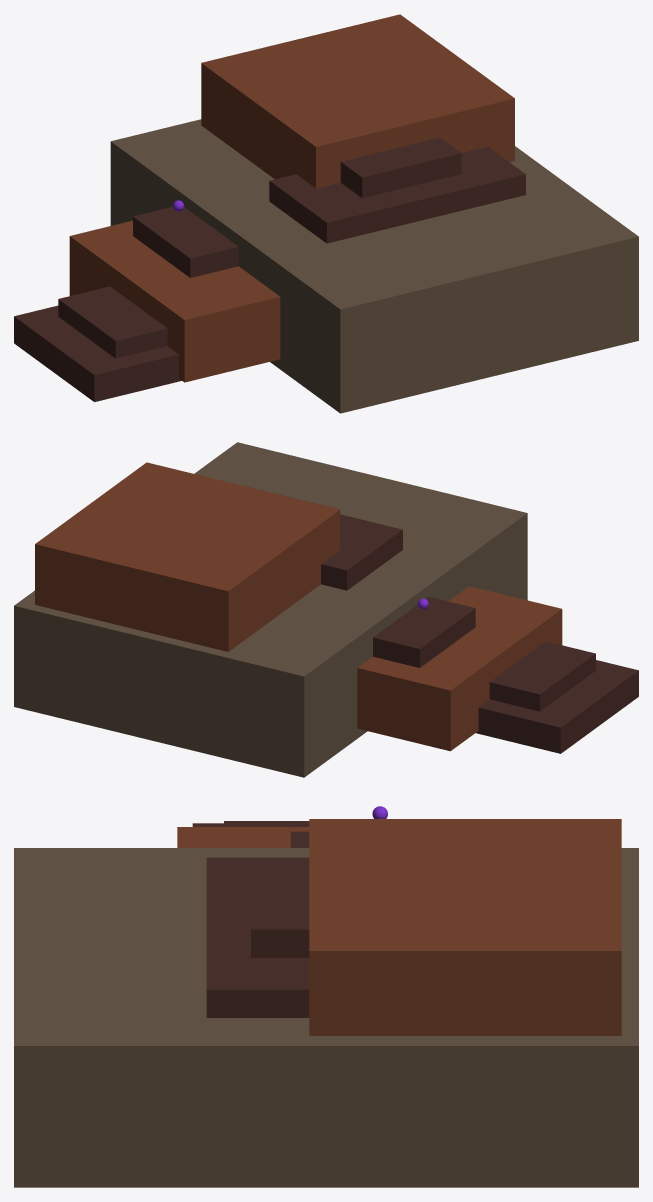
The model's file is Section_1A_4.fbx.
3 views of the same model, one above another, from view 1: azimuth 30°, elevation 25°; view 2: azimuth 150°, elevation 25°; view 3: azimuth 270°, elevation 25° (orthographic). The views are drawn at different scales.
Visible parts, largest first — view 1: Cube__68_, Cube__71_, Cube__69_, Cube__75_, Cube__72_, Cube__73_, Cube__74_, Cube__76_; view 2: Cube__68_, Cube__71_, Cube__69_, Cube__72_, Cube__73_, Cube__74_, Cube__75_; view 3: Cube__68_, Cube__71_, Cube__75_, Cube__76_, Cube__69_.
Part boxes in pixels (x1,y1,x2,y2): Cube__68_: [110, 119, 638, 413]; Cube__71_: [201, 14, 514, 188]; Cube__69_: [69, 220, 280, 382]; Cube__75_: [269, 147, 525, 243]; Cube__72_: [14, 305, 181, 401]; Cube__73_: [58, 286, 167, 358]; Cube__74_: [133, 207, 238, 277]; Cube__76_: [340, 137, 461, 198]; Cube__68_: [14, 442, 527, 777]; Cube__71_: [35, 462, 340, 651]; Cube__69_: [357, 586, 562, 751]; Cube__72_: [476, 660, 638, 753]; Cube__73_: [489, 641, 595, 711]; Cube__74_: [373, 597, 475, 667]; Cube__75_: [321, 514, 402, 590]; Cube__68_: [14, 848, 638, 1187]; Cube__71_: [309, 819, 621, 1035]; Cube__75_: [206, 857, 309, 1017]; Cube__76_: [251, 863, 309, 957]; Cube__69_: [177, 827, 309, 847].
Bounding box in the file's own units: 2406 × 800 × 2000.
